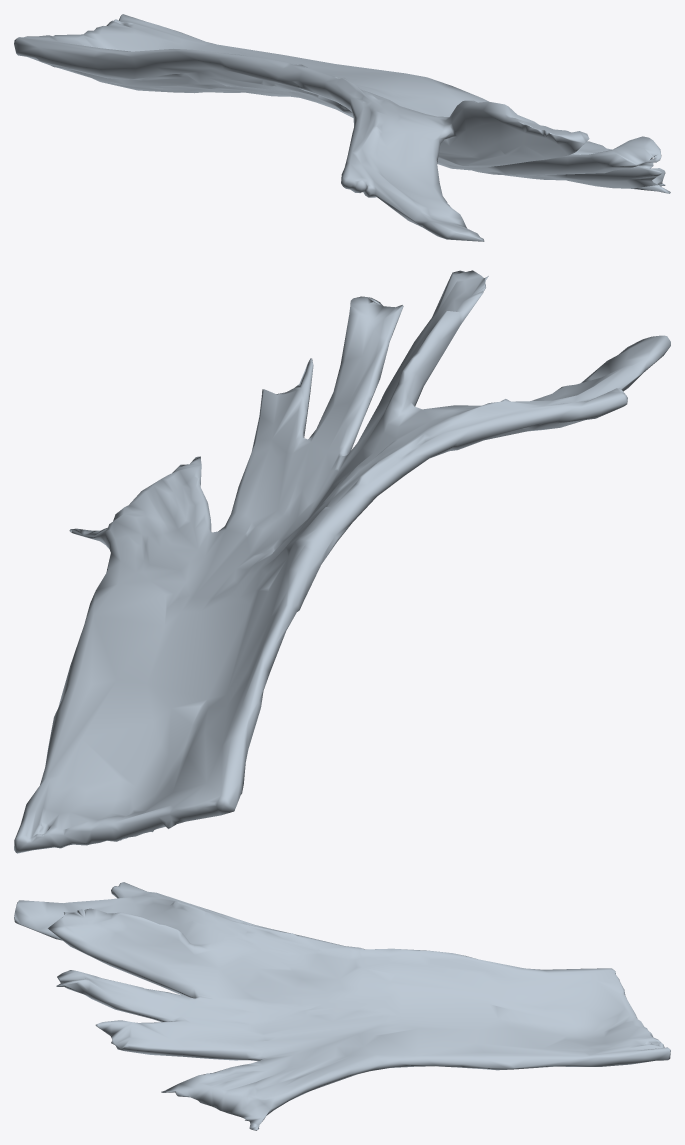
The model's file is long-plantar-ligament-l.glb.
3 views of the same model, one above another, from view 1: azimuth 30°, elevation 25°; view 2: azimuth 150°, elevation 25°; view 3: azimuth 270°, elevation 25° (orthographic). The views are drawn at different scales.
Parts seen in each view (by area): view 1: Long plantar ligament.l; view 2: Long plantar ligament.l; view 3: Long plantar ligament.l.
Boxes of the visible parts, x1,y1,x2,y2 form: Long plantar ligament.l: (14, 14, 670, 241); Long plantar ligament.l: (14, 270, 670, 853); Long plantar ligament.l: (14, 882, 670, 1130).
Bounding box in the file's own units: 0.0508 × 0.0254 × 0.0998.
